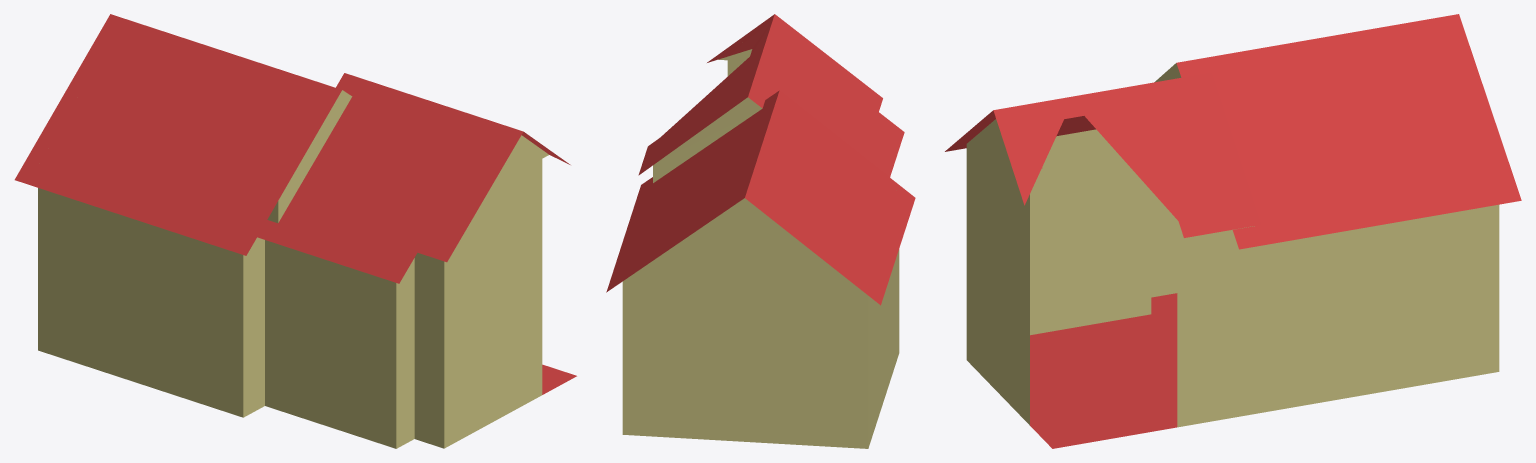
3 renders of one model, left to right at view 1: azimuth 30°, elevation 25°; view 2: azimuth 150°, elevation 25°; view 3: azimuth 270°, elevation 25°, orthographic. The views are drawn at different scales.
Bounding box in the file's own units: 20.63 × 24.96 × 14.16.
